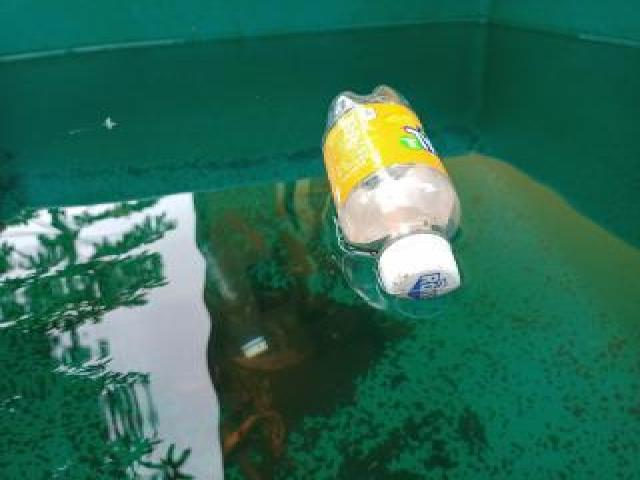Bottle: (318, 88, 465, 308)
